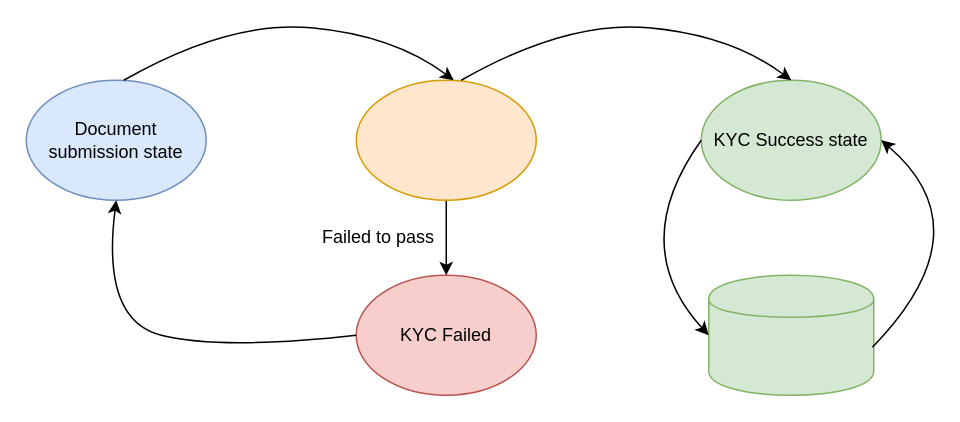
Some shapes in this 960 by 422 pixel diagram are drawn without their labels. The centre of each missing label's shape, as x and y in pixels:
Ready for query: [790,334]
Submission processing state: [445,139]
